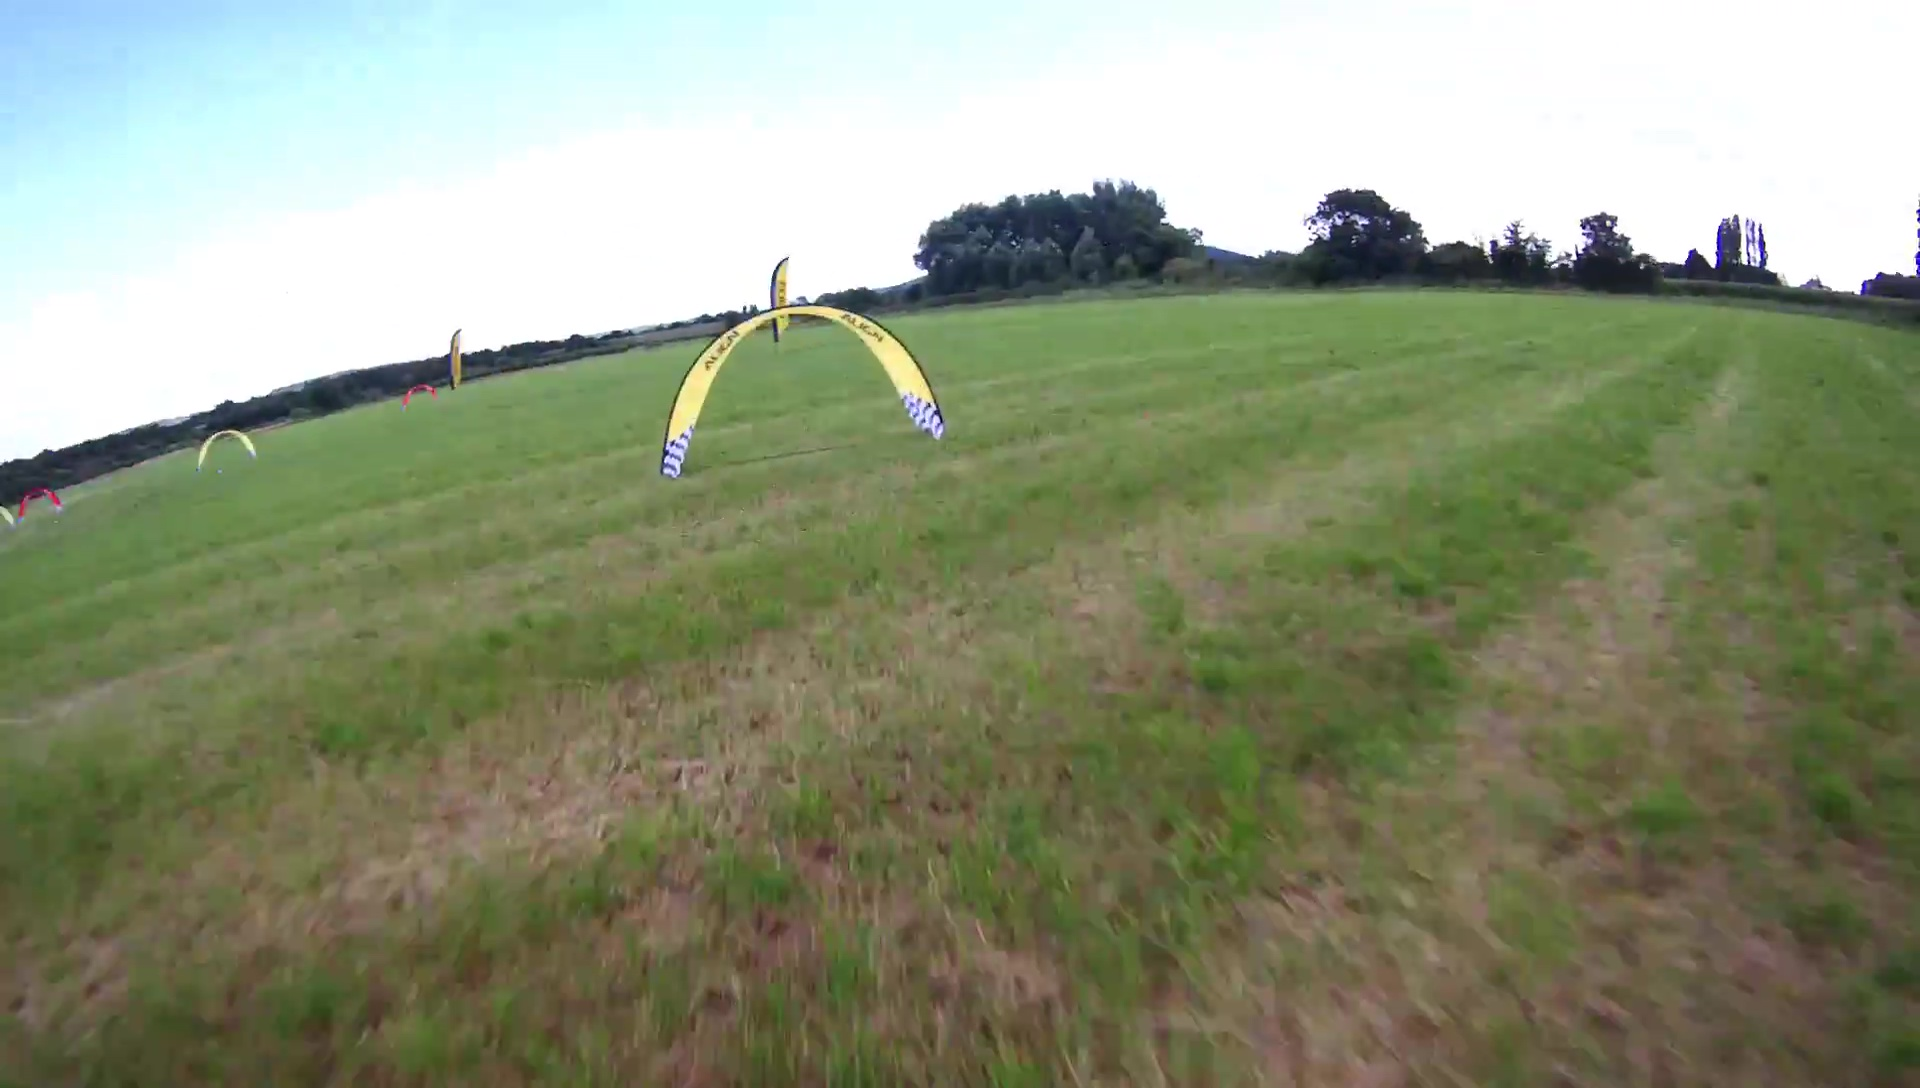gate: (659, 301, 947, 481), (194, 430, 258, 473), (15, 487, 65, 529), (404, 382, 439, 408)
